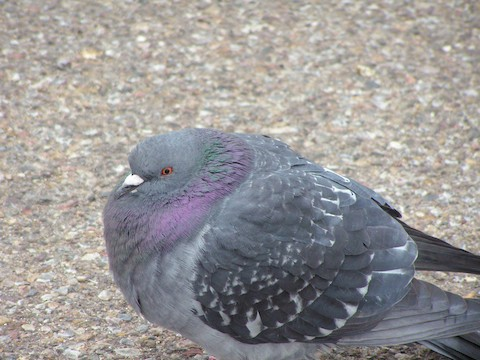pigeon: (98, 123, 472, 351)
